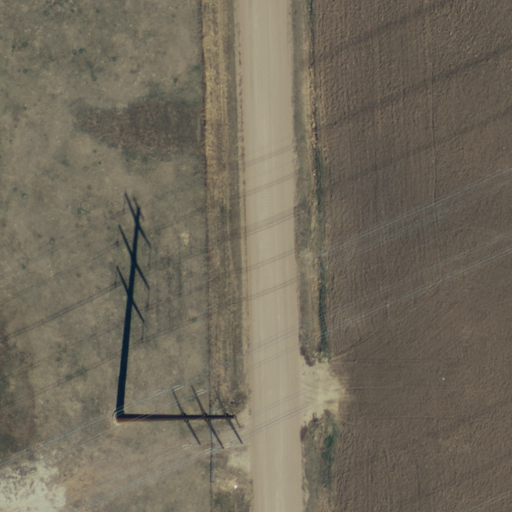TT: (112, 382, 245, 451)
